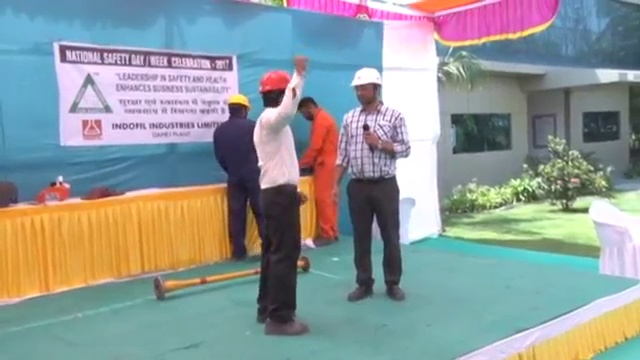helmet: (257, 69, 294, 93), (347, 66, 385, 88), (225, 92, 251, 110)
helmet_off: (295, 94, 321, 124)
helmet_on: (347, 64, 386, 111), (257, 67, 295, 112), (224, 91, 252, 121)
person: (330, 65, 411, 302), (251, 54, 315, 337), (214, 93, 266, 261), (295, 94, 340, 245)
